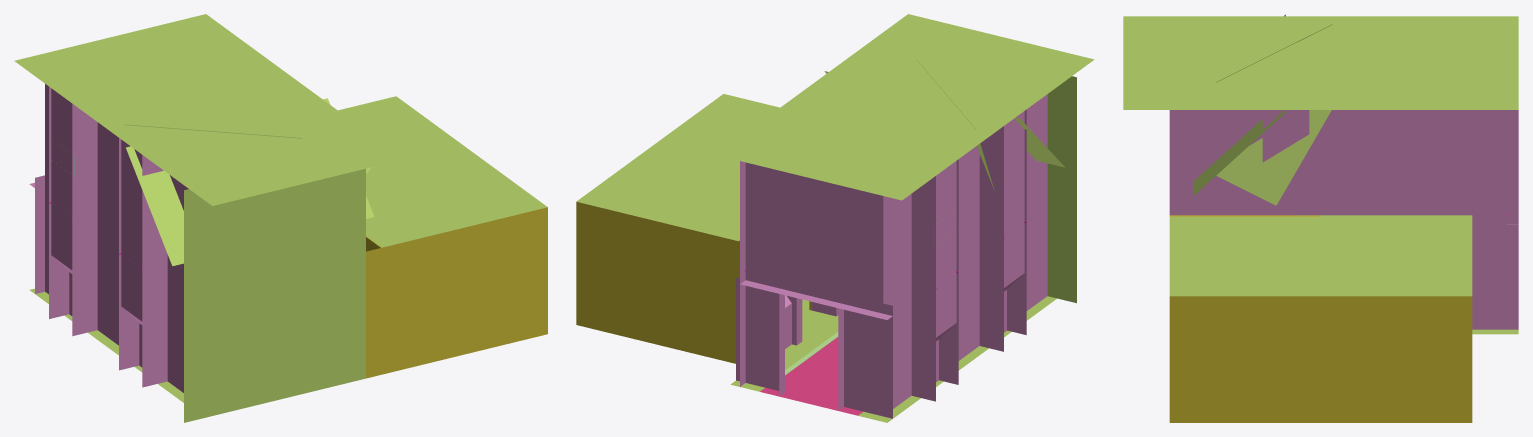
Rendered from Room1_CaveIn_LCZ.fbx.
The picture shows the model from 3 angles, left to right: view 1: azimuth 30°, elevation 25°; view 2: azimuth 150°, elevation 25°; view 3: azimuth 270°, elevation 25°; orthographic projection. The views are drawn at different scales.
Parts seen in each view (by area): view 1: Room1_CaveIn_LCZ; view 2: Room1_CaveIn_LCZ; view 3: Room1_CaveIn_LCZ.
Boxes of the visible parts, x1,y1,x2,y2 form: Room1_CaveIn_LCZ: (14,14,547,422); Room1_CaveIn_LCZ: (576,14,1094,422); Room1_CaveIn_LCZ: (1123,14,1518,422).
Size of the model in its own units: 11.52 by 7.06 by 10.88.
